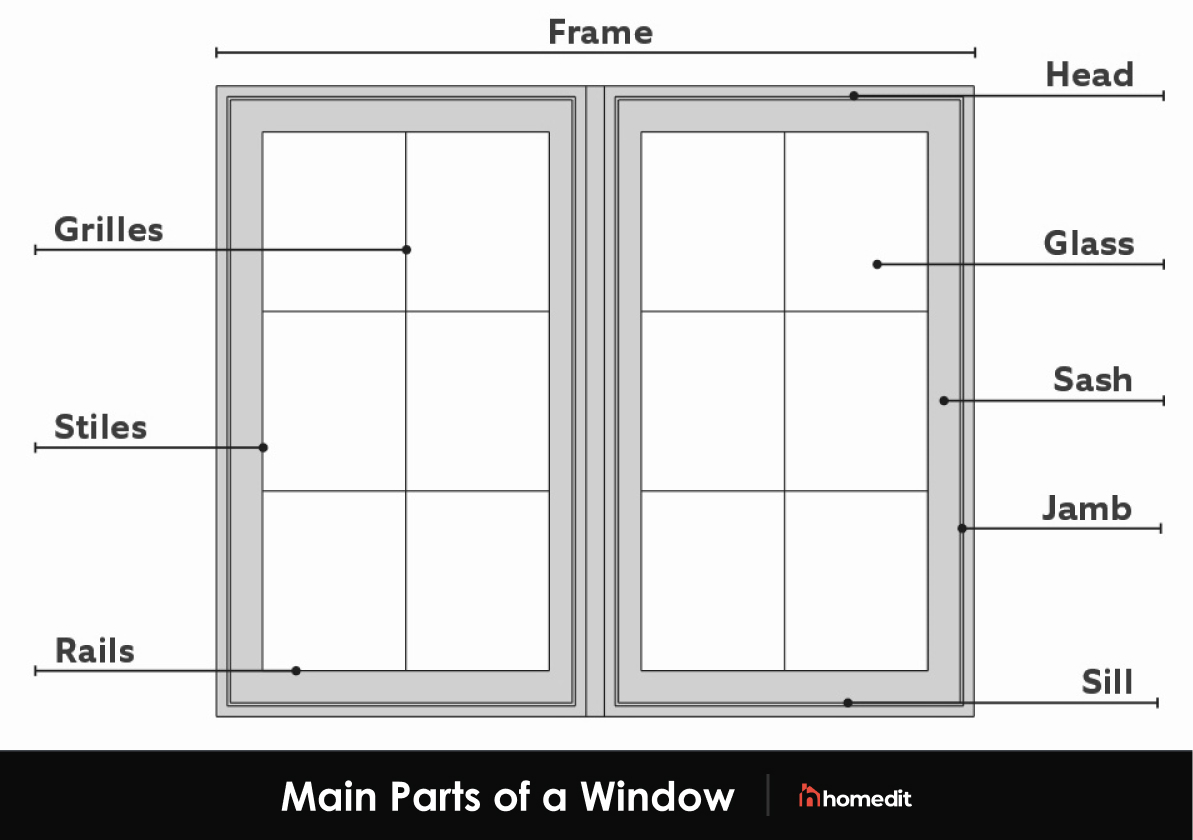Window: (211, 86, 977, 710)
